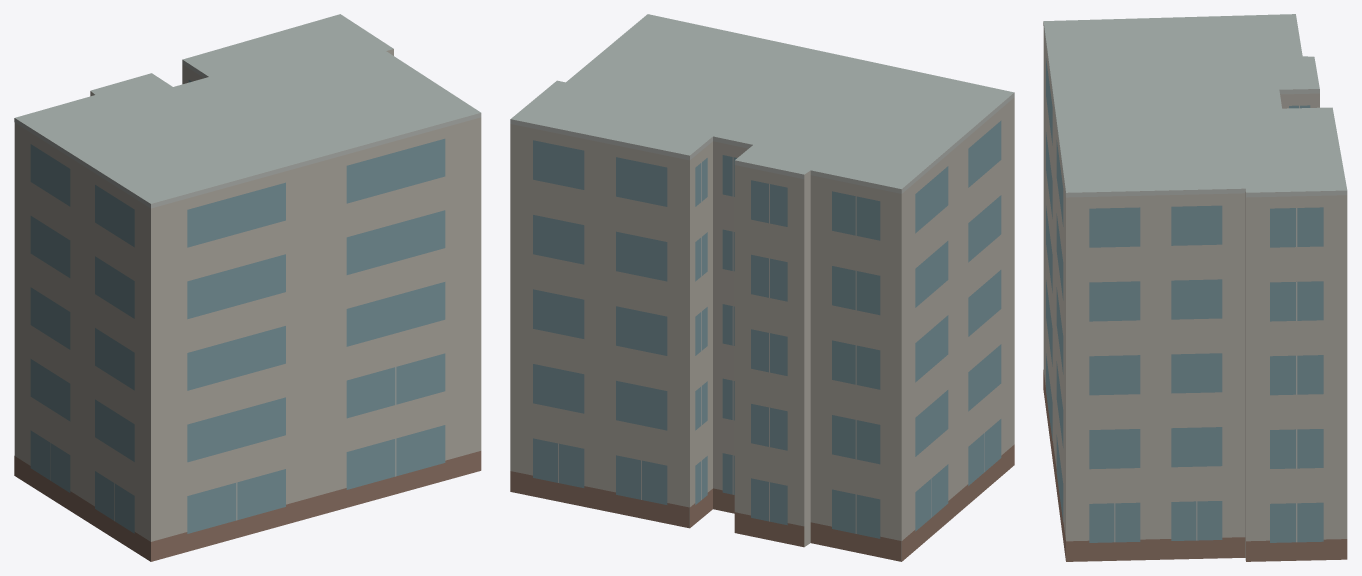
Rendered from survey-upis-32680043.glb.
The picture shows the model from 3 angles, left to right: view 1: azimuth 30°, elevation 25°; view 2: azimuth 150°, elevation 25°; view 3: azimuth 270°, elevation 25°; orthographic projection. The views are drawn at different scales.
Parts seen in each view (by area): view 1: survey-upis-32680043.tmp; view 2: survey-upis-32680043.tmp; view 3: survey-upis-32680043.tmp.
Boxes of the visible parts, box(x1,y1,x2,y2) form: survey-upis-32680043.tmp: box(14, 14, 481, 561); survey-upis-32680043.tmp: box(510, 14, 1014, 561); survey-upis-32680043.tmp: box(1043, 14, 1347, 561).
Bounding box in the file's own units: 19.86 × 19.1 × 14.26.
